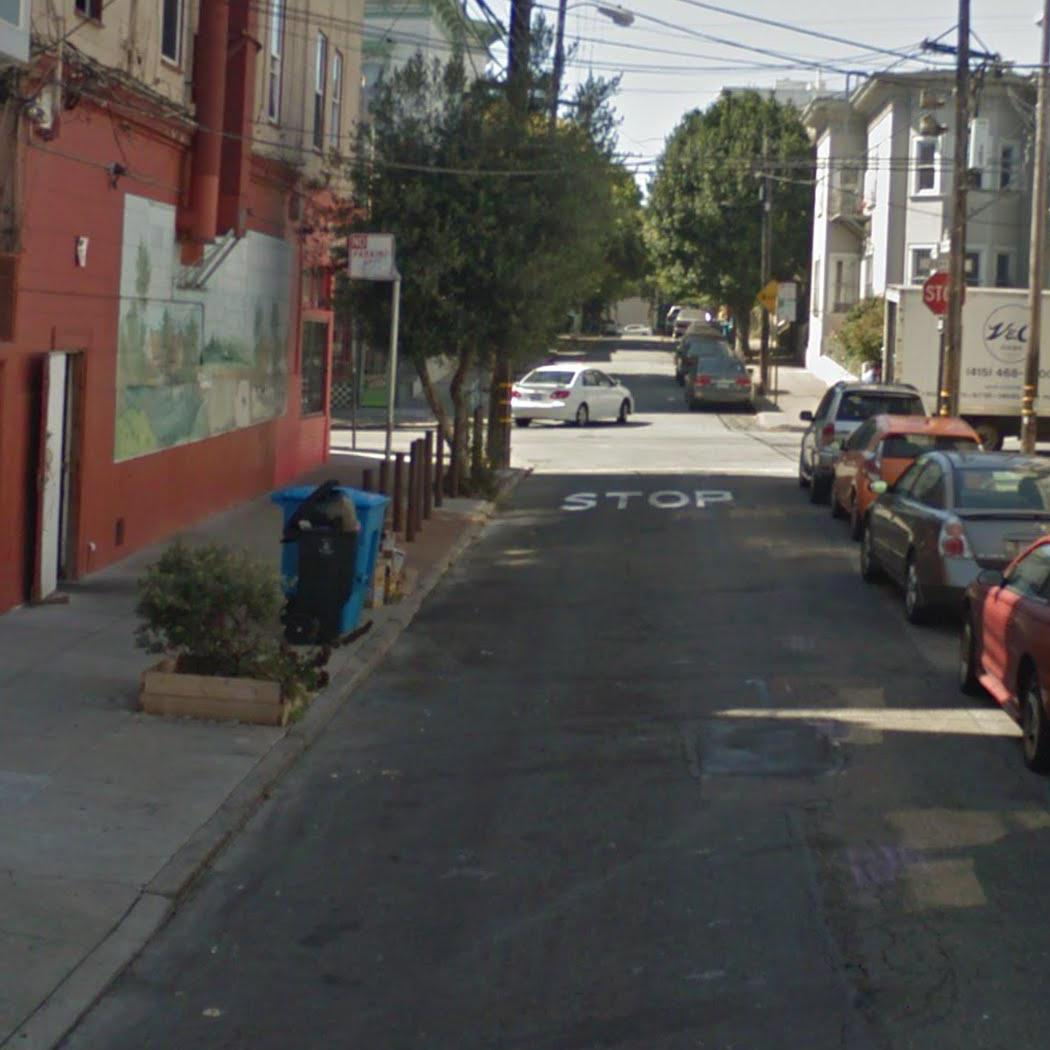No Parking Anytime: (347, 229, 397, 283)
